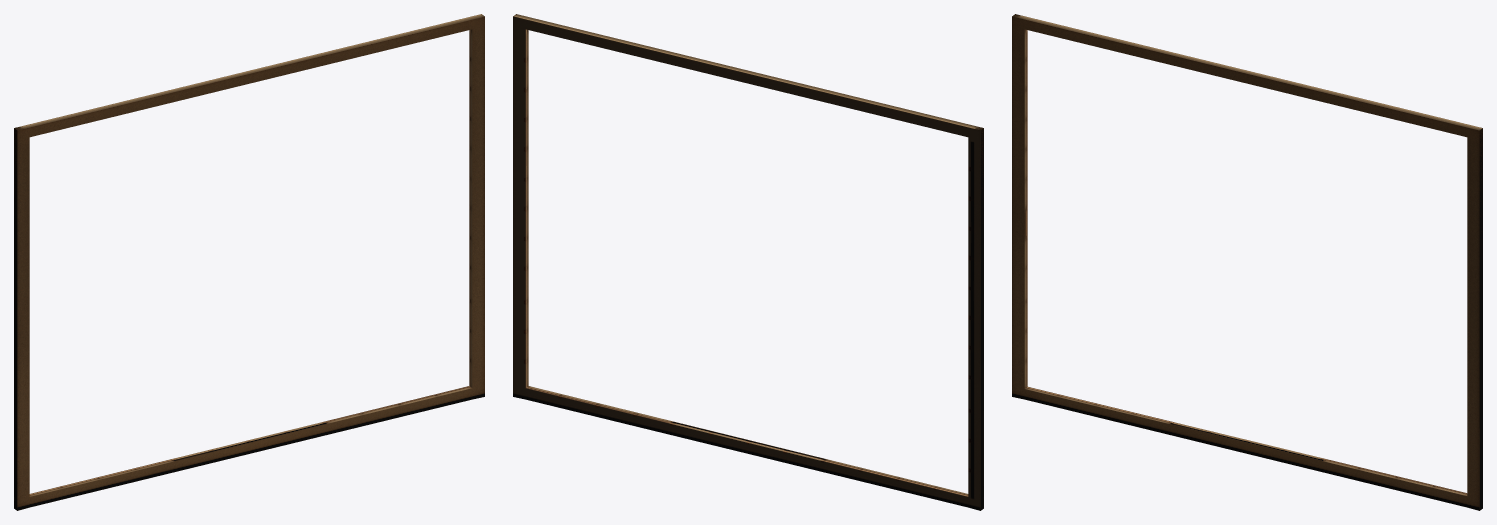
3 renders of one model, left to right at view 1: azimuth 30°, elevation 25°; view 2: azimuth 150°, elevation 25°; view 3: azimuth 330°, elevation 25°, orthographic.
Parts seen in each view (by area): view 1: Room; view 2: Room; view 3: Room.
Part boxes in pixels (x1,y1,x2,y2): Room: [14, 14, 484, 510]; Room: [513, 14, 983, 510]; Room: [1012, 14, 1482, 510].
Size of the model in its own units: 21.36 by 16.61 by 0.26.
Materials: 1 (1 with a texture image).
